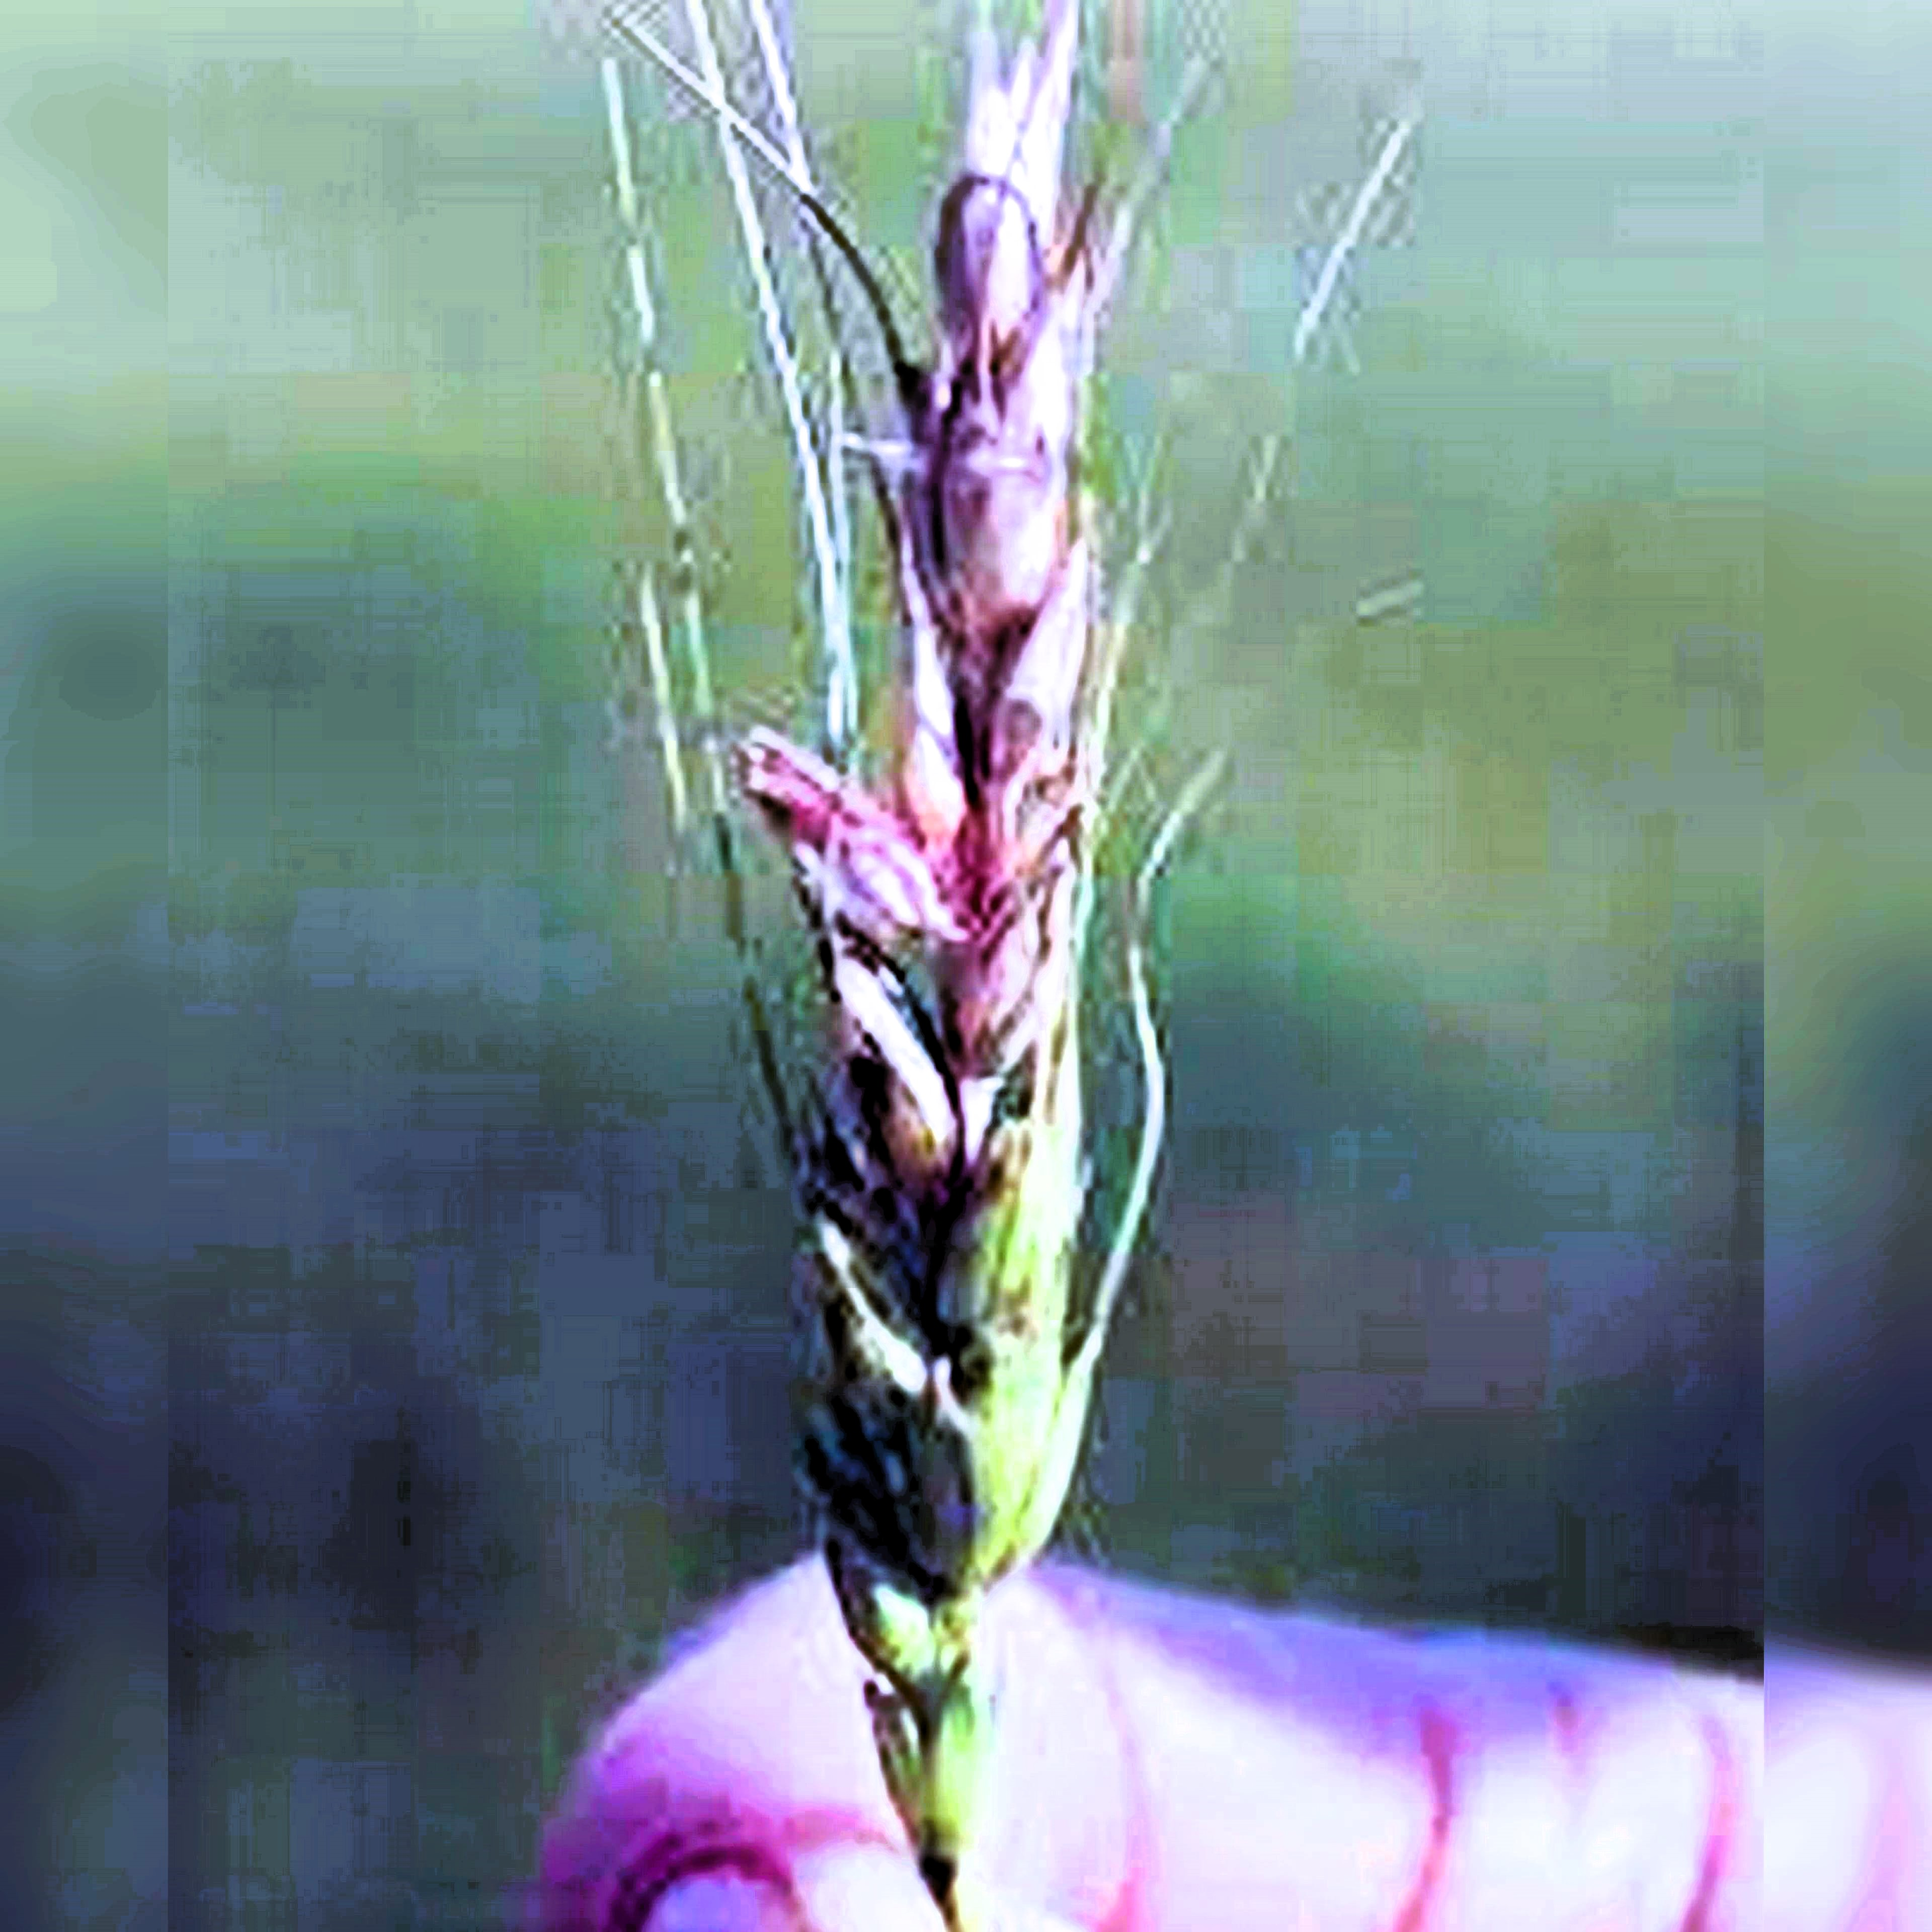Wheat scab: (701, 131, 1134, 1668)
